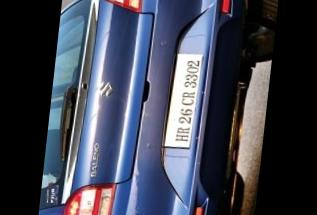plate: (151, 30, 221, 161)
